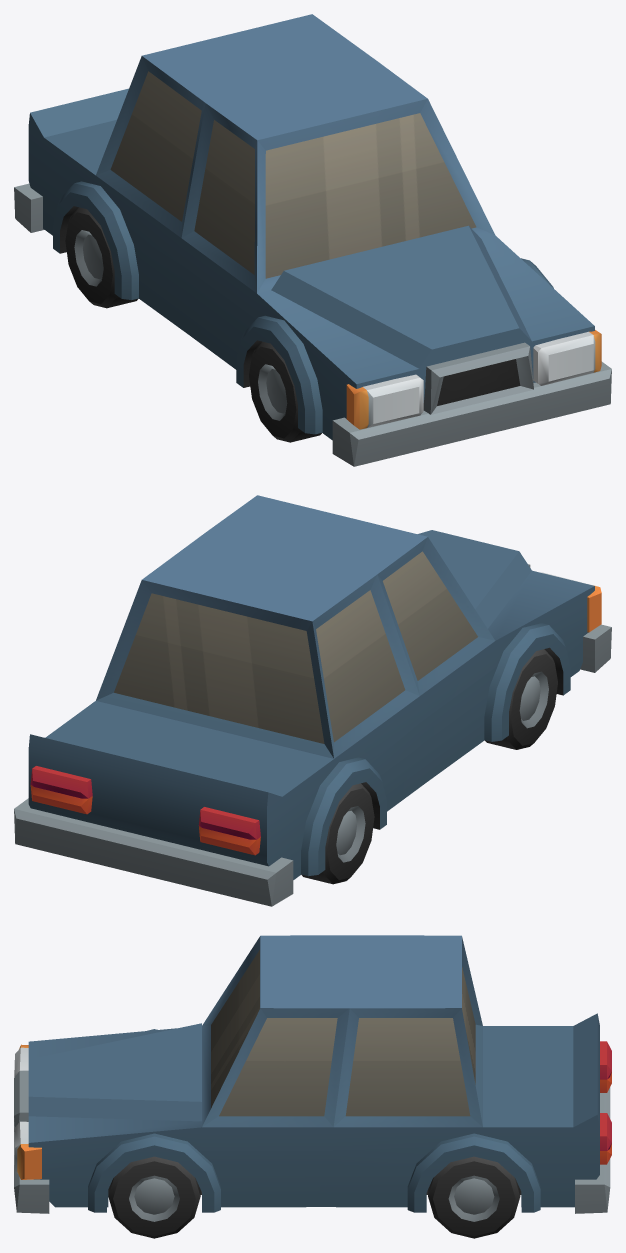
File: Car Sedan.glb
The picture shows the model from 3 angles, top to bottom: view 1: azimuth 30°, elevation 25°; view 2: azimuth 150°, elevation 25°; view 3: azimuth 270°, elevation 25°; orthographic projection. The views are drawn at different scales.
Visible parts, largest first — view 1: car_sedan, car_sedan_wheel_rear_right, car_sedan_wheel_front_right; view 2: car_sedan, car_sedan_wheel_rear_right, car_sedan_wheel_front_right; view 3: car_sedan, car_sedan_wheel_front_left, car_sedan_wheel_rear_left.
Boxes of the visible parts, left/top/right/bottom form: car_sedan: left=14, top=14, right=611, bottom=466; car_sedan_wheel_rear_right: left=65, top=207, right=138, bottom=308; car_sedan_wheel_front_right: left=249, top=341, right=321, bottom=442; car_sedan: left=14, top=495, right=611, bottom=906; car_sedan_wheel_rear_right: left=301, top=783, right=374, bottom=884; car_sedan_wheel_front_right: left=485, top=649, right=557, bottom=749; car_sedan: left=14, top=935, right=611, bottom=1213; car_sedan_wheel_front_left: left=108, top=1156, right=200, bottom=1238; car_sedan_wheel_rear_left: left=428, top=1156, right=520, bottom=1238.
Bounding box in the file's own units: 0.419 × 0.3688 × 0.9381.
1 material, 1 textured.
